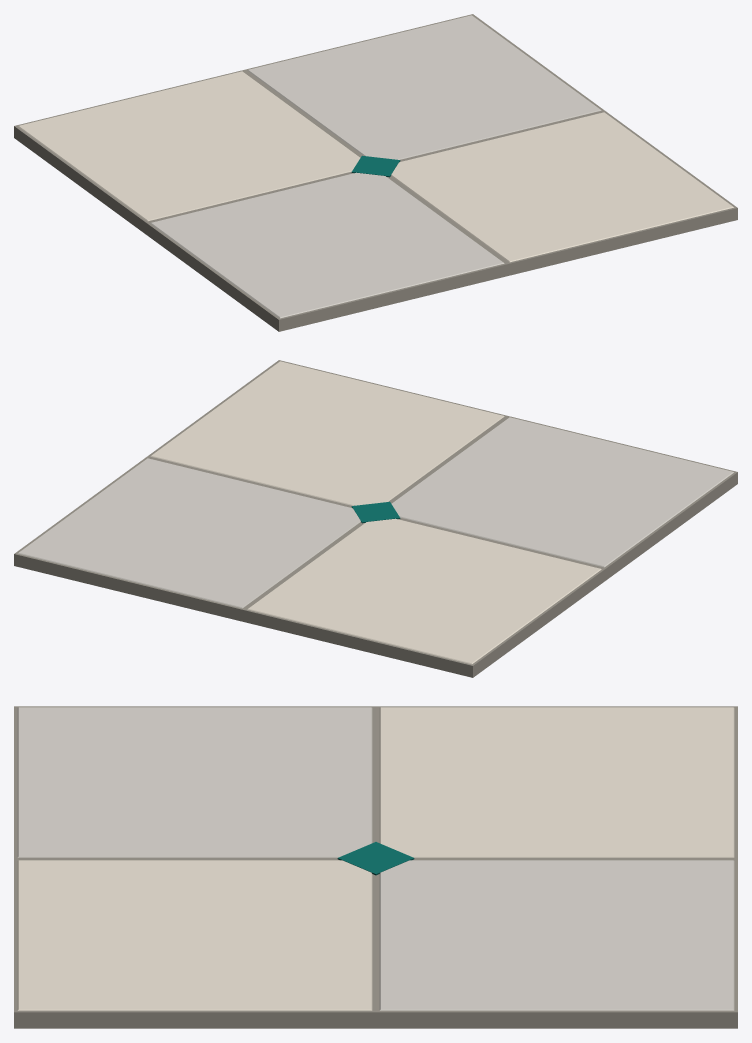
The model's file is ground_plaza_01.glb.
3 views of the same model, one above another, from view 1: azimuth 30°, elevation 25°; view 2: azimuth 150°, elevation 25°; view 3: azimuth 270°, elevation 25° (orthographic). The views are drawn at different scales.
Parts seen in each view (by area): view 1: ground_plaza_01_mesh; view 2: ground_plaza_01_mesh; view 3: ground_plaza_01_mesh.
Part boxes in pixels (x1,y1,x2,y2): ground_plaza_01_mesh: (14, 14, 737, 331); ground_plaza_01_mesh: (14, 360, 737, 677); ground_plaza_01_mesh: (14, 706, 737, 1028).
Size of the model in its own units: 4 by 0.1079 by 4.
Materials: 1 (1 with a texture image).
